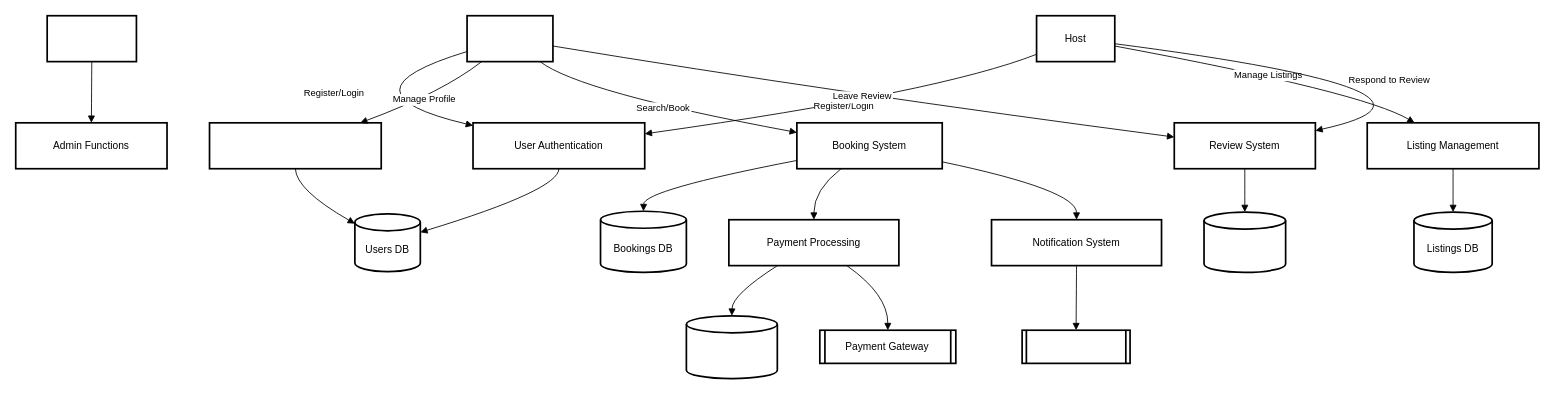
The diagram is 1554 pixels wide and 394 high, and some of its shapes have lost their labels. The shapes that lost their labels are listed below. From the top down, each one's centre as x and y in pixels, then its label:
At [91,38]: "Admin".
At [509,38]: "Guest".
At [295,145]: "Profile Management".
At [1244,242]: "Reviews DB".
At [731,346]: "Payments DB".
At [1075,346]: "Email Service".
